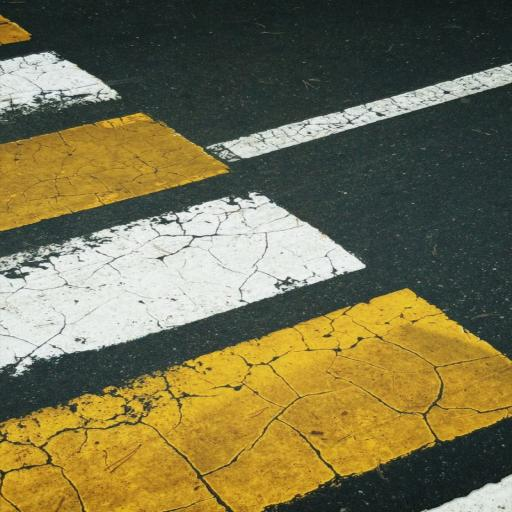closet: (0, 11, 509, 512)
ramp: (0, 0, 511, 511)
